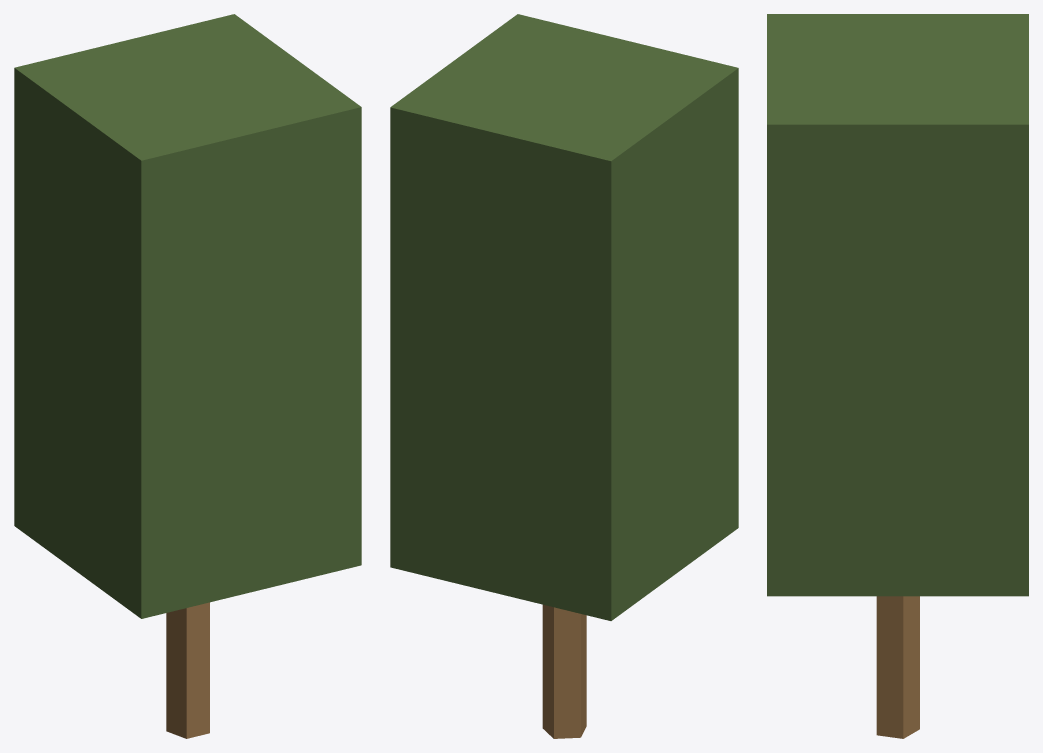
File: tree_08.fbx
3 views of the same model, side by side, from view 1: azimuth 30°, elevation 25°; view 2: azimuth 150°, elevation 25°; view 3: azimuth 270°, elevation 25° (orthographic). The views are drawn at different scales.
Visible parts, largest first — view 1: tree_08; view 2: tree_08; view 3: tree_08.
Boxes of the visible parts, x1,y1,x2,y2 form: tree_08: [14, 14, 361, 738]; tree_08: [390, 14, 738, 738]; tree_08: [767, 14, 1028, 738].
Size of the model in its own units: 168 by 468 by 168.
